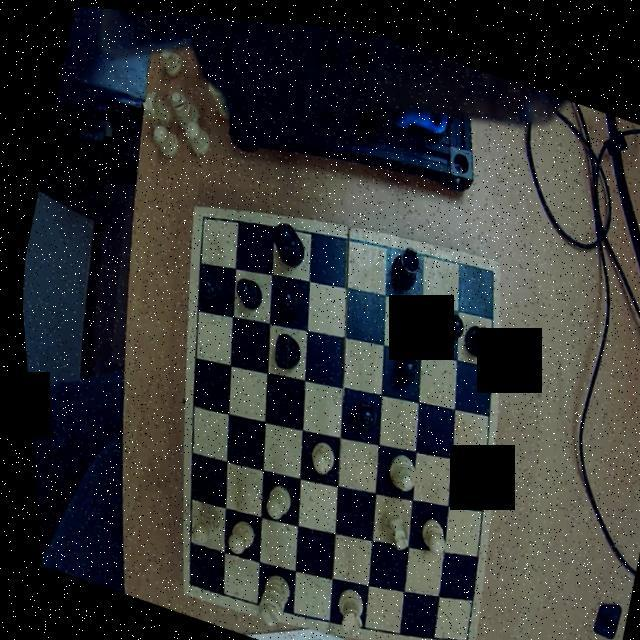chess-table-corners: (468, 248, 501, 282), (168, 561, 195, 597), (188, 198, 218, 230), (439, 619, 467, 640)
